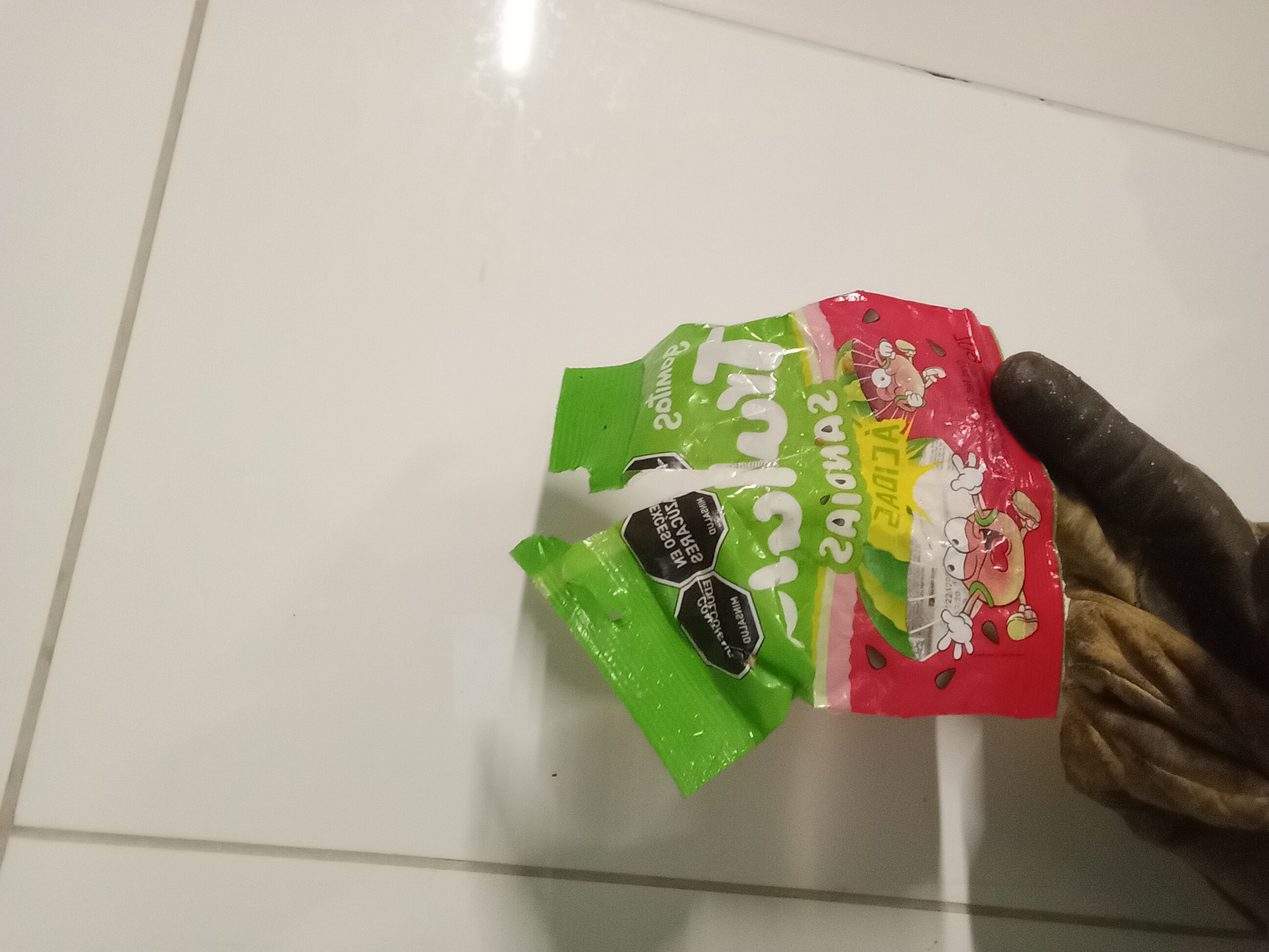Ordinario: (508, 288, 1062, 797)
